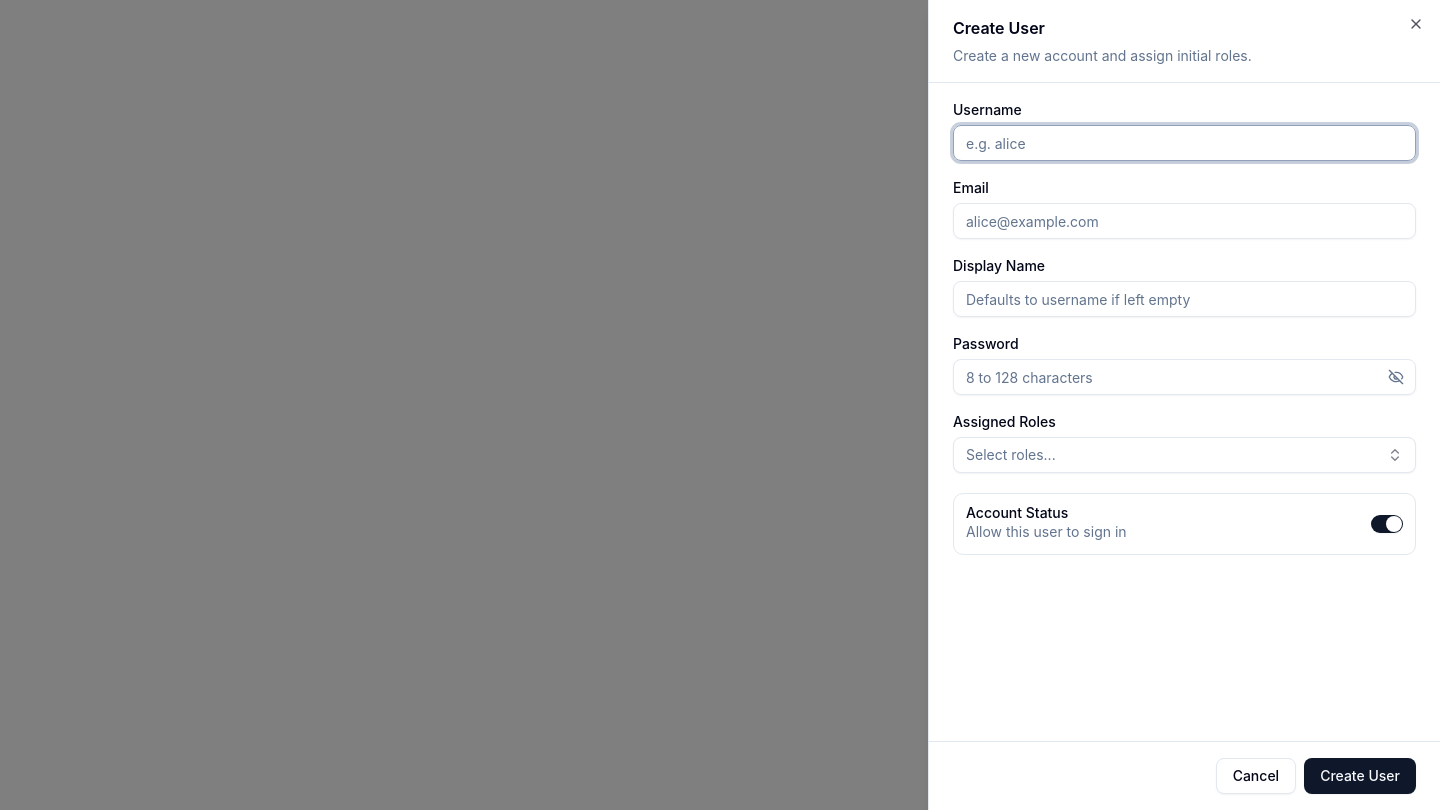
Test: users feature › validates client-side schemas and clears bannerError on switch/external close
Later steps or results of the test are not shown.
Type "bob" into the field labelled "Username" at coordinates (1184, 143), box [953, 125, 1416, 161]
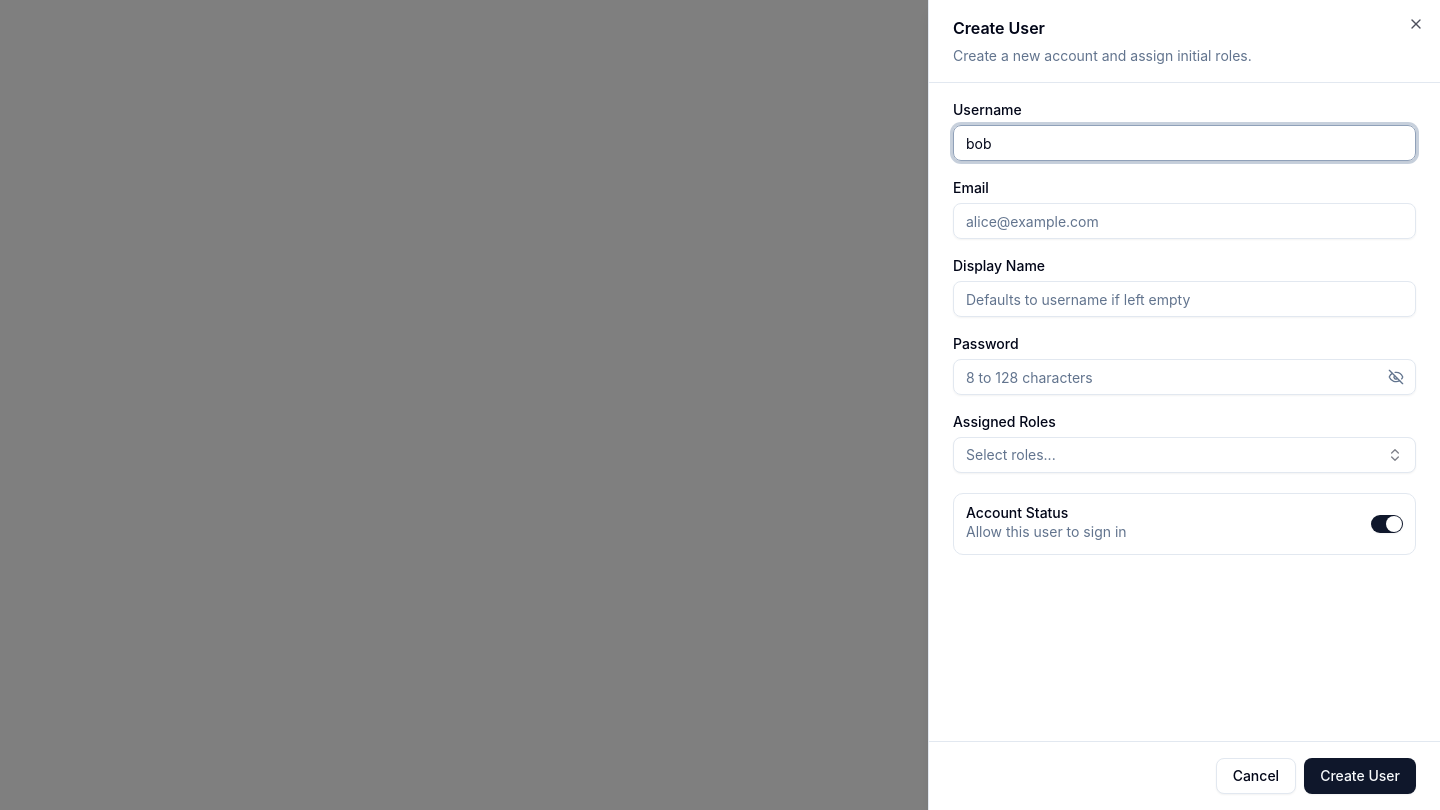
Type "not-an-email" into the field labelled "Email" at coordinates (1184, 221), box [953, 203, 1416, 239]
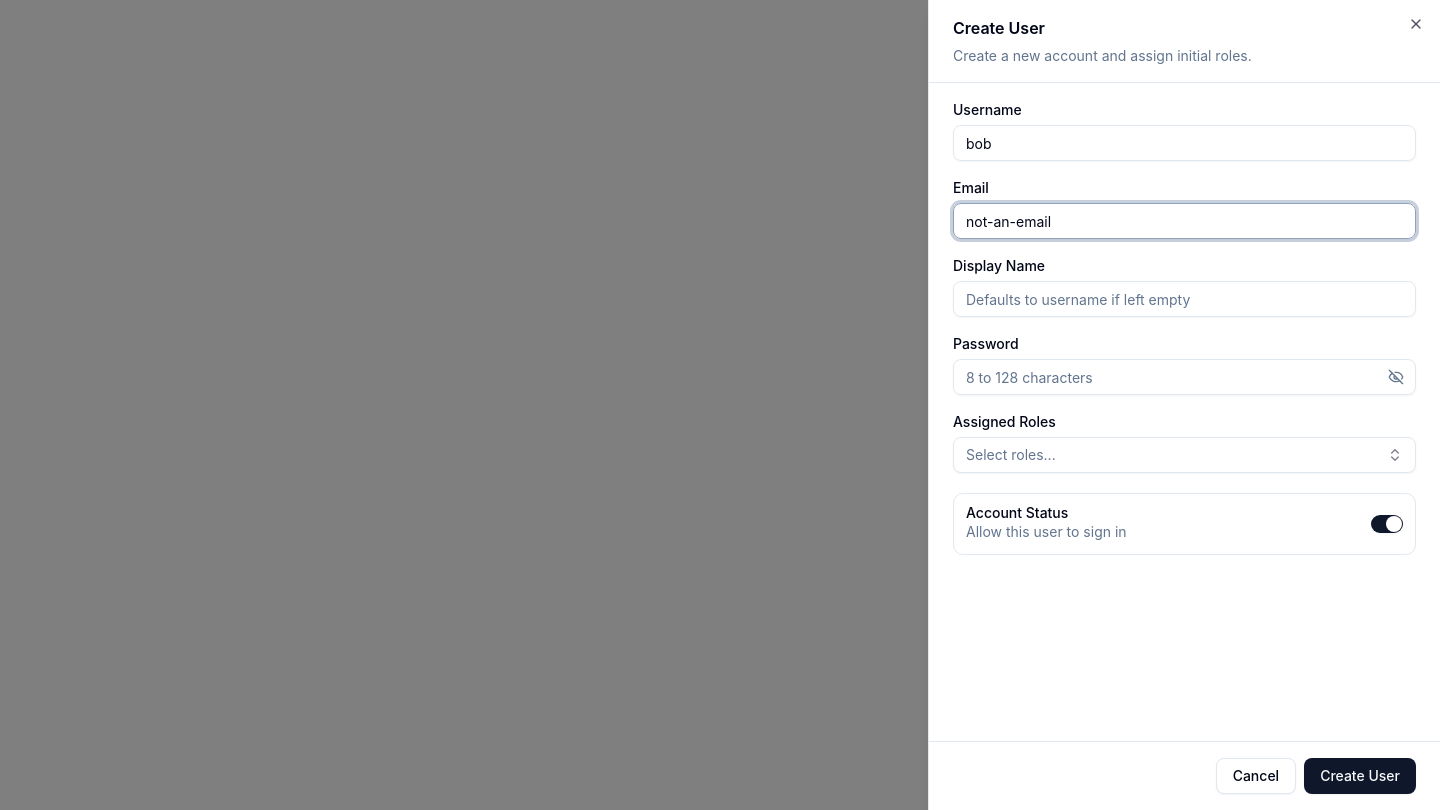
Type "short" into the password field with placeholder "8 to 128 characters" at coordinates (1184, 377), box [953, 359, 1416, 395]
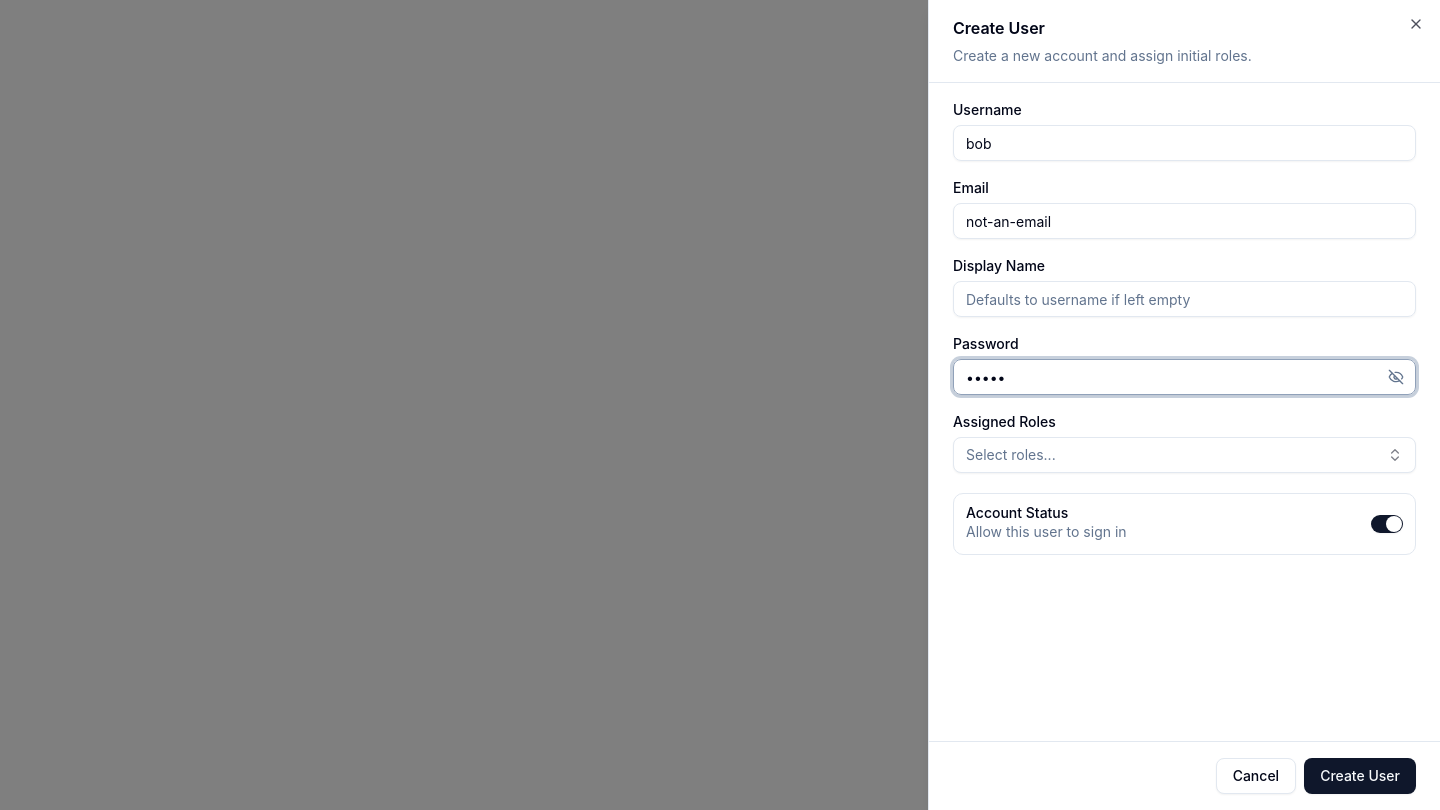
Click the button "Create User" at coordinates (1360, 776), box [1304, 758, 1416, 794]
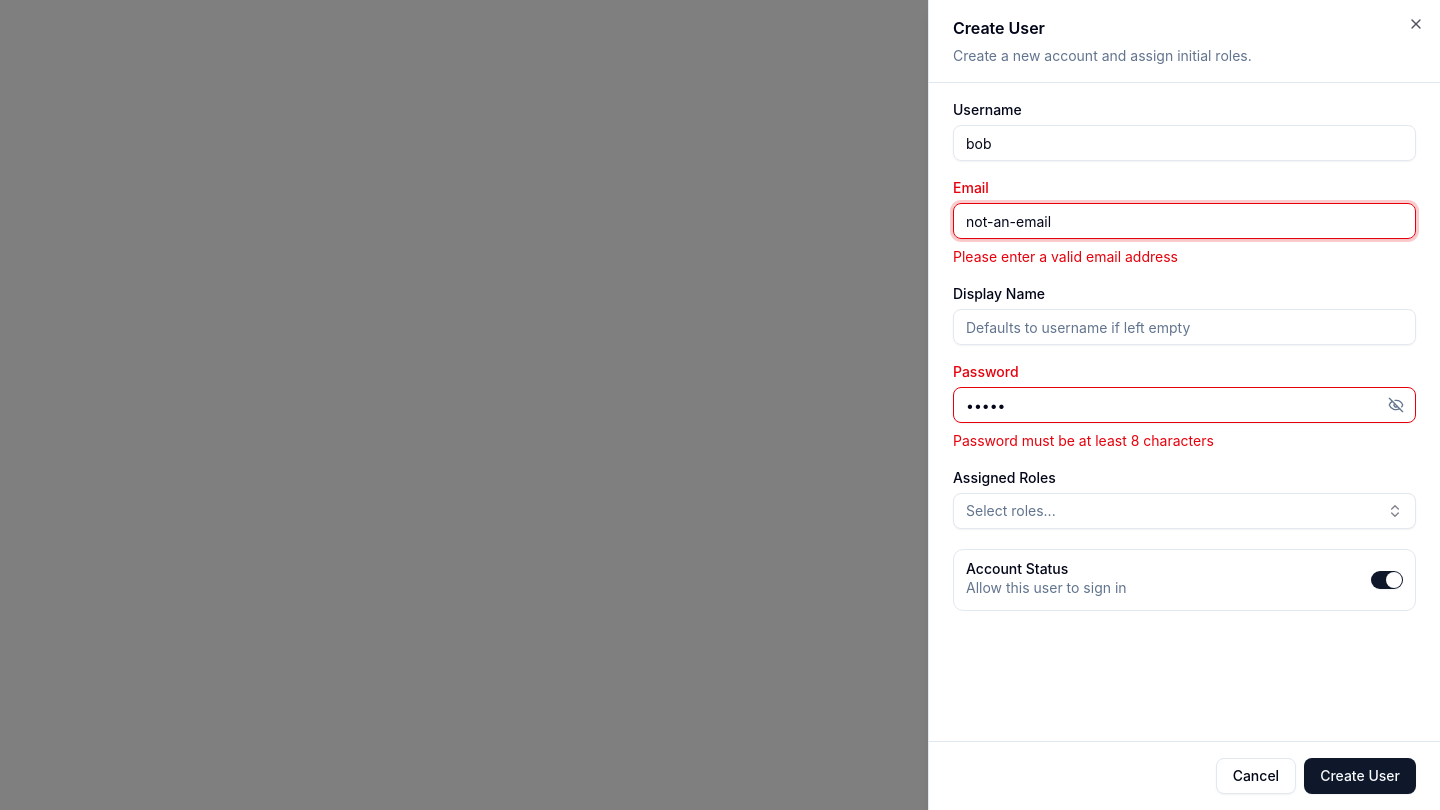
expect the text "Please enter a valid email address" is shown: met, box [953, 248, 1178, 265]
expect the text "Password must be at least 8 characters" is shown: met, box [953, 432, 1214, 449]
